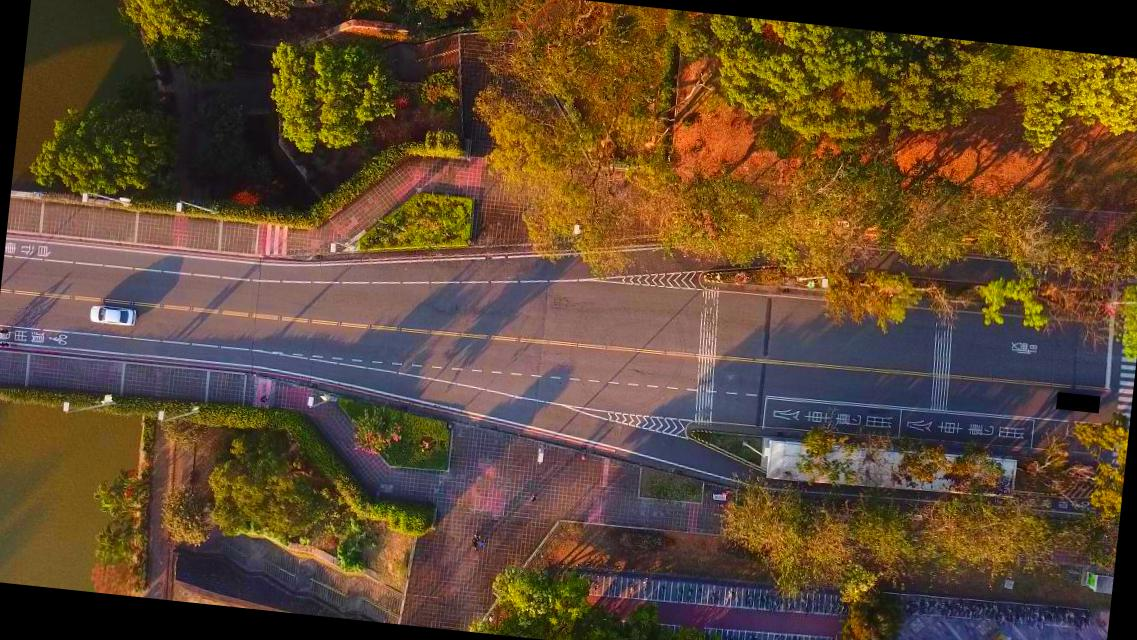vehicle: (88, 302, 137, 327)
